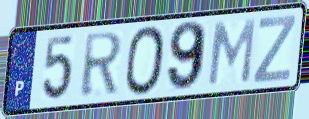5: (39, 33, 77, 103)
9: (166, 19, 211, 94)
M: (205, 17, 258, 88)
O: (124, 24, 168, 98)
R: (79, 30, 125, 100)
Z: (250, 13, 298, 85)
